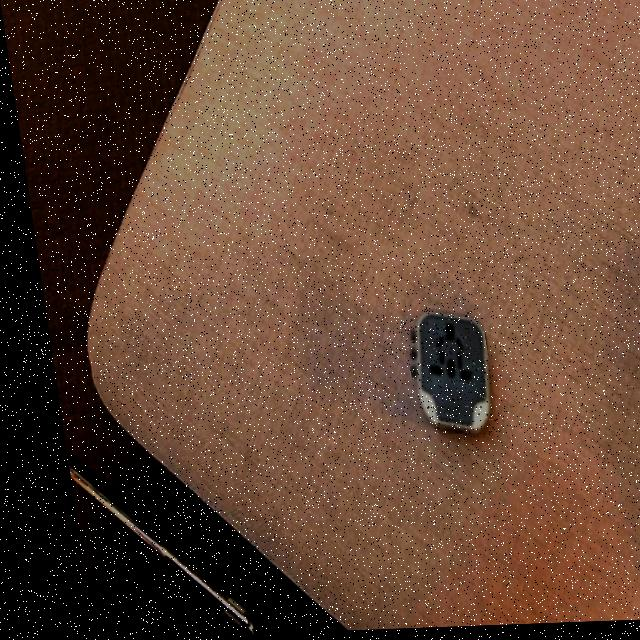adapter: (392, 310, 485, 438)
